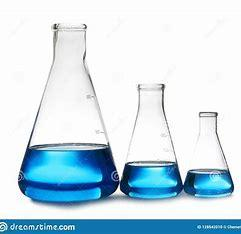Titrarion: (9, 18, 119, 206), (123, 59, 180, 201), (183, 104, 237, 205)
